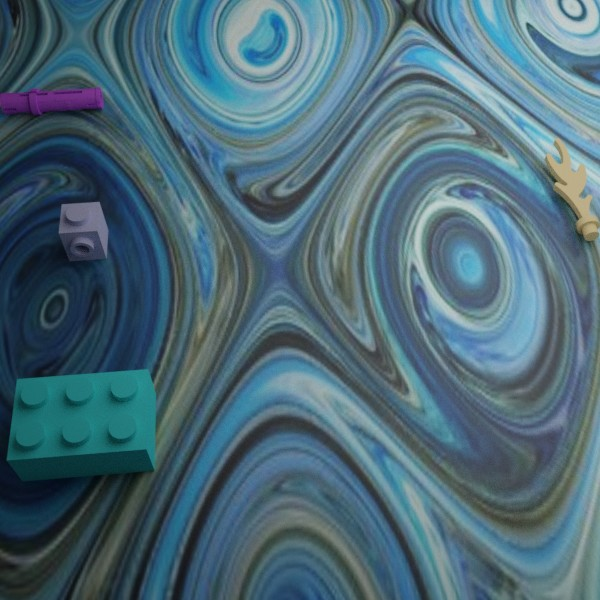lego: (6, 369, 155, 481), (544, 137, 599, 241), (58, 201, 108, 261), (0, 87, 103, 115)
